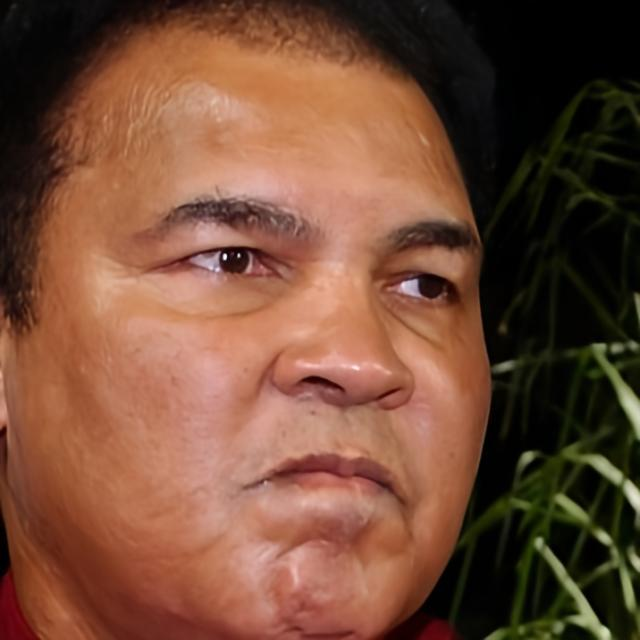anger: (58, 30, 494, 633)
